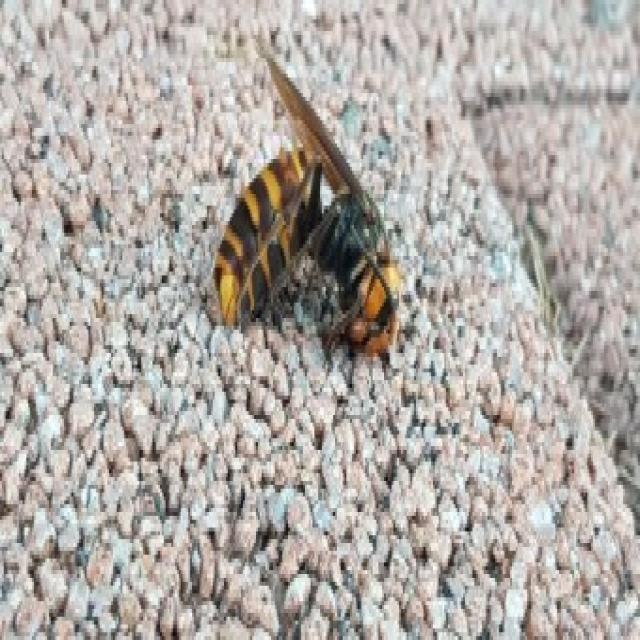Wasp: (209, 53, 409, 362)
